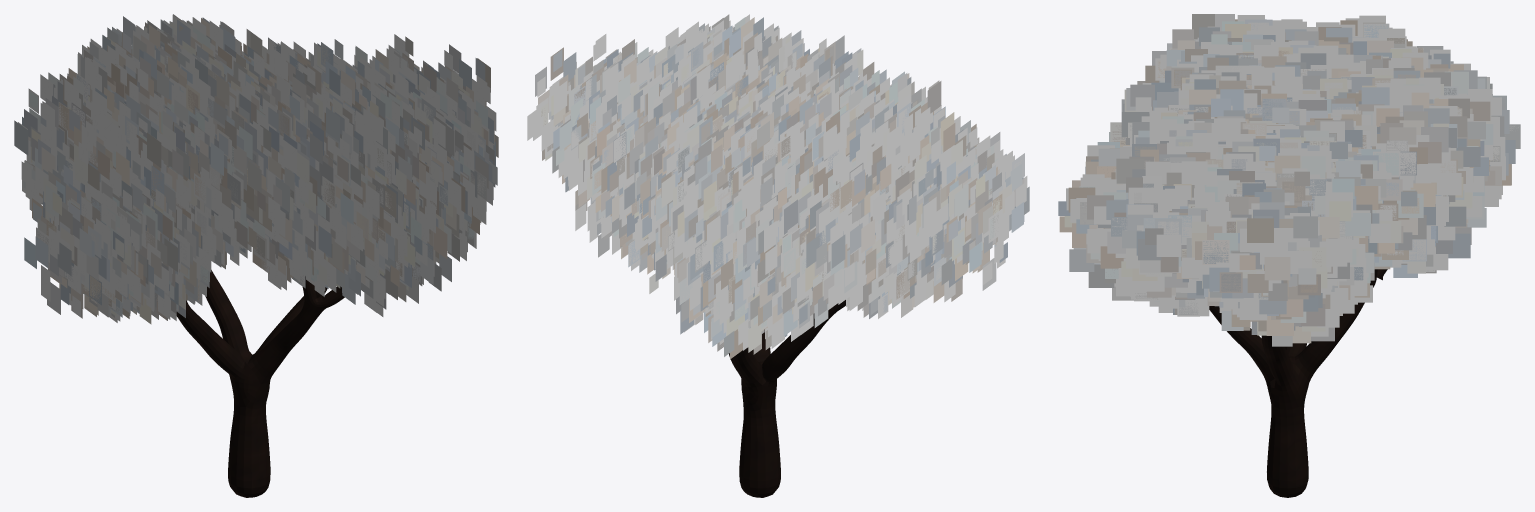
File: SM_V2_Tree_Blossom_A.fbx
The picture shows the model from 3 angles, left to right: view 1: azimuth 30°, elevation 25°; view 2: azimuth 150°, elevation 25°; view 3: azimuth 270°, elevation 25°; orthographic projection. The views are drawn at different scales.
Visible parts, largest first — view 1: SM_V2_Tree_Blossom_A; view 2: SM_V2_Tree_Blossom_A; view 3: SM_V2_Tree_Blossom_A.
Boxes of the visible parts, x1,y1,x2,y2 form: SM_V2_Tree_Blossom_A: (14, 14, 498, 497); SM_V2_Tree_Blossom_A: (527, 14, 1029, 497); SM_V2_Tree_Blossom_A: (1058, 14, 1520, 497).
Bounding box in the file's own units: 14.46 × 13.29 × 12.74.
